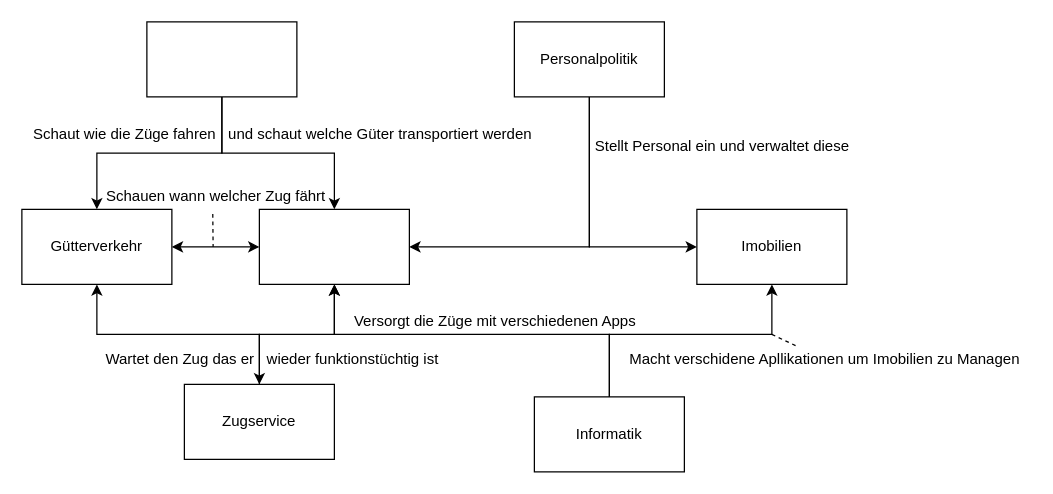
Some shapes in this 1053 by 494 pixel diagram are drawn without their labels. The shapes that lost their labels are listed below. From the top down, each one's centre as x and y in pixels, then its label:
point 221,59: Vertriebstrategie
point 333,246: Personenverkehr
